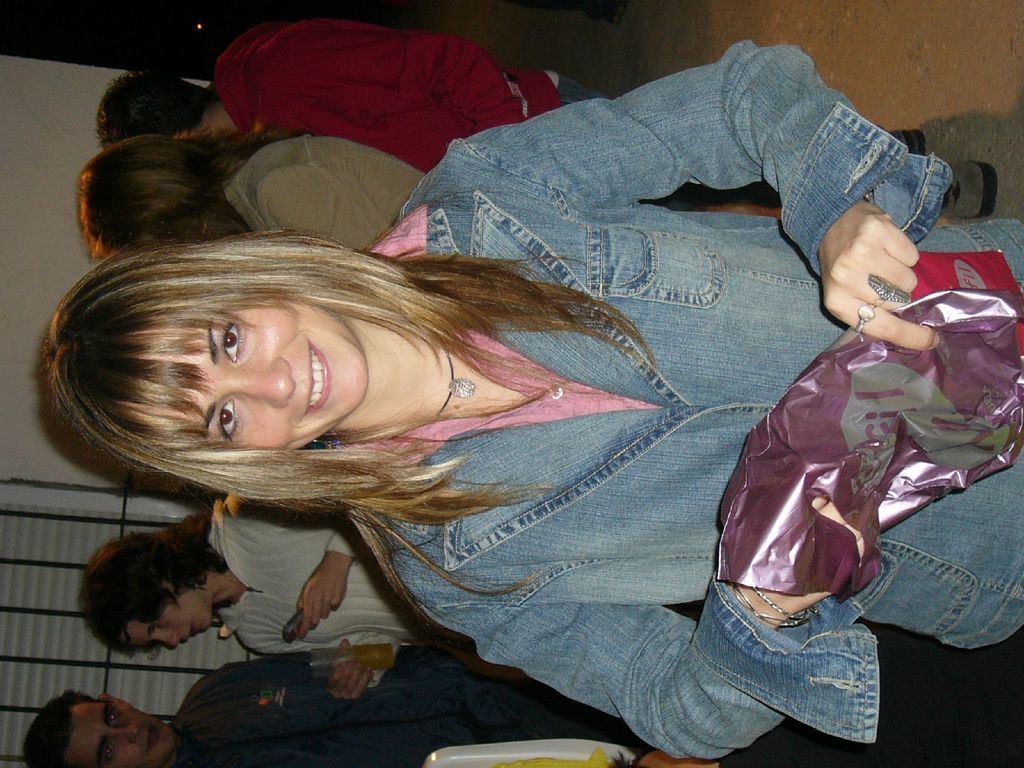Human_hand: (825, 192, 950, 344), (735, 500, 871, 614), (294, 565, 348, 643), (321, 653, 375, 704), (662, 758, 719, 767)
